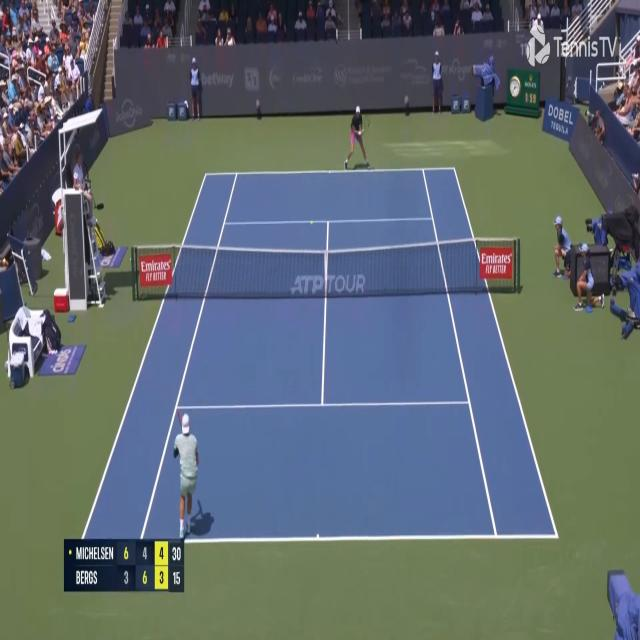tennis-player: (173, 410, 204, 534), (344, 102, 374, 172)
